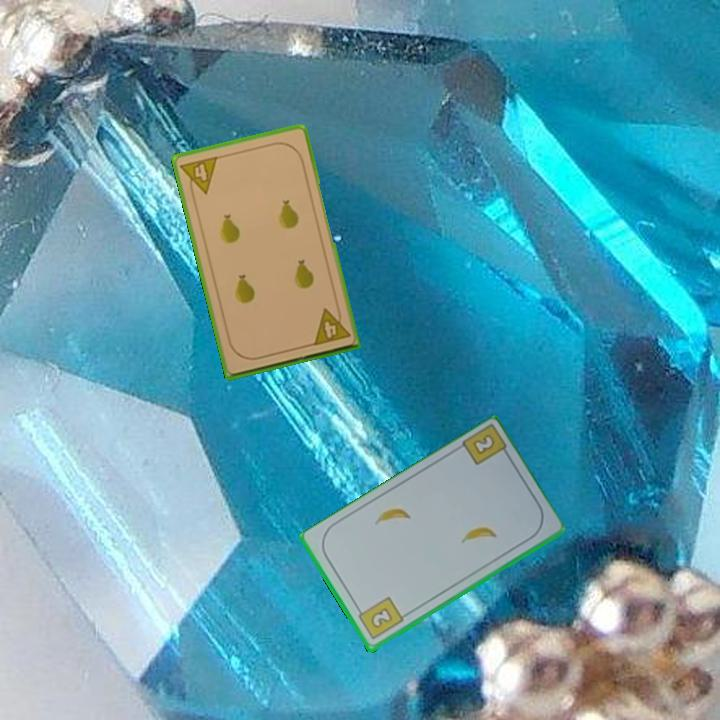2b: (353, 594, 406, 643), (469, 431, 497, 458)
4p: (177, 152, 221, 200), (309, 303, 353, 348)
